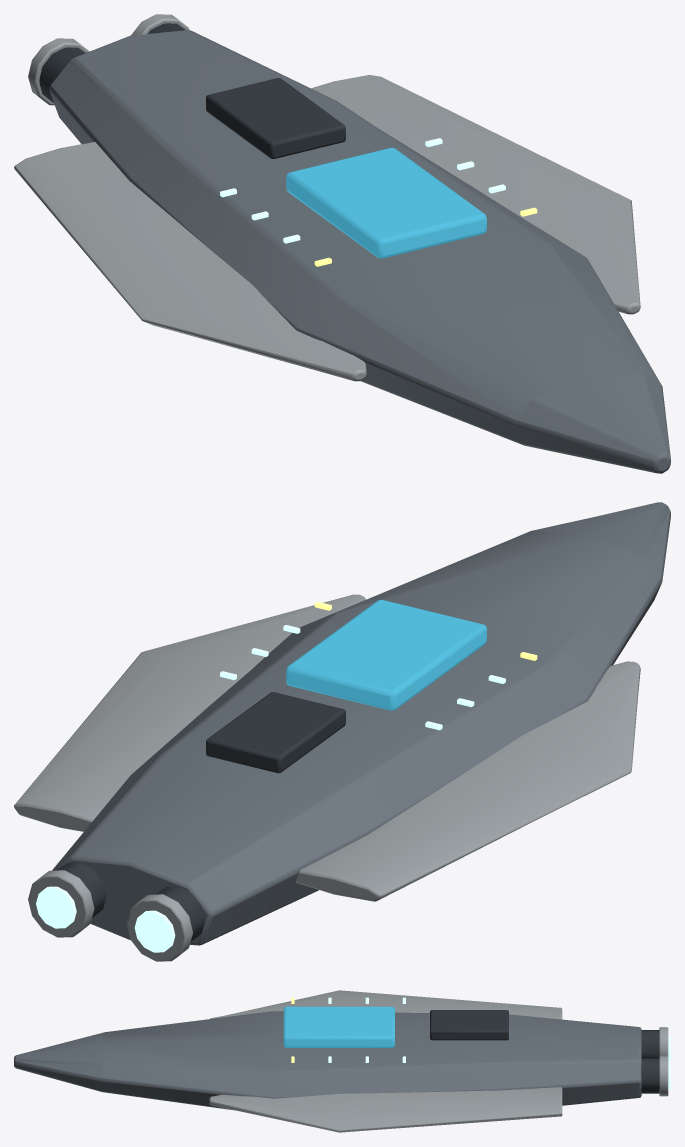
Rendered from QW_EscortSpear_LOD1.fbx.
3 views of the same model, one above another, from view 1: azimuth 30°, elevation 25°; view 2: azimuth 150°, elevation 25°; view 3: azimuth 270°, elevation 25° (orthographic). The views are drawn at different scales.
Parts seen in each view (by area): view 1: QW_EscortSpear_LOD1; view 2: QW_EscortSpear_LOD1; view 3: QW_EscortSpear_LOD1.
Boxes of the visible parts, x1=… form: QW_EscortSpear_LOD1: x1=14, y1=14, x2=670, y2=473; QW_EscortSpear_LOD1: x1=14, y1=502, x2=670, y2=961; QW_EscortSpear_LOD1: x1=14, y1=990, x2=670, y2=1132.
Bounding box in the file's own units: 7.16 × 1.71 × 14.13.
